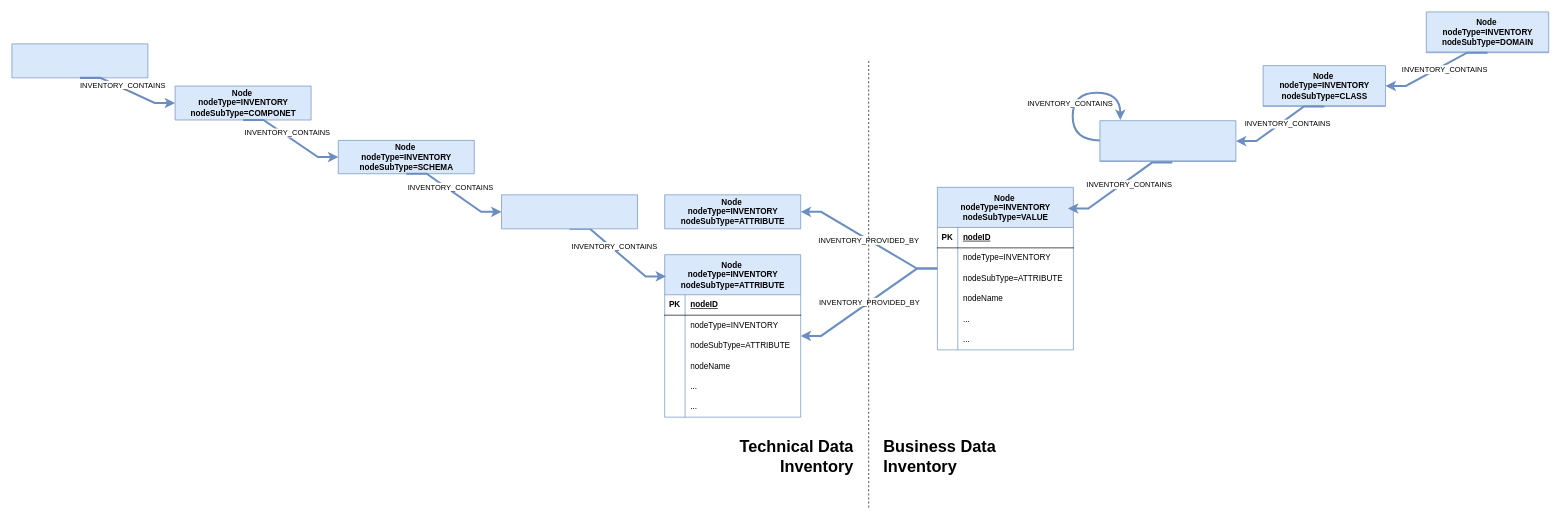
Some shapes in this 1561 by 528 pixel diagram are drawn without their labels. The centre of each missing label's shape, as x and y in pixels:
Node nodeType=INVENTORY nodeSubType=(SUB)CLASS: the point at 1167,141
Node nodeType=INVENTORY nodeSubType=APPLICATION: the point at 79,60
Node nodeType=INVENTORY nodeSubType=TABLE: the point at 569,211
